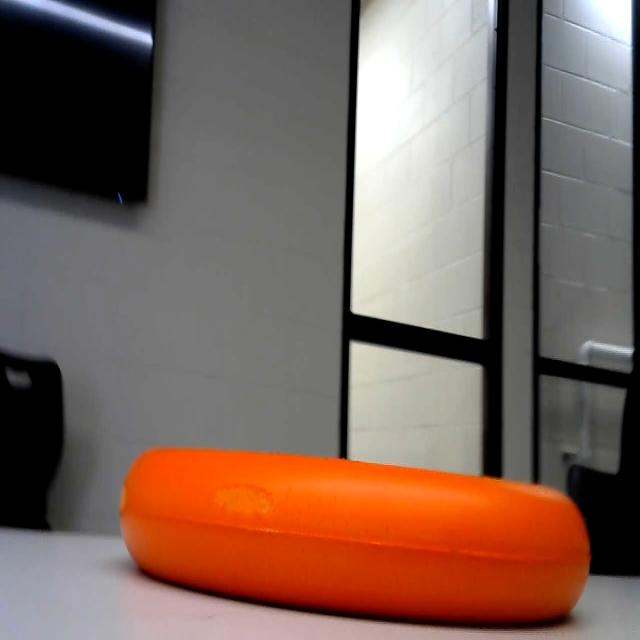note: (110, 435, 589, 635)
